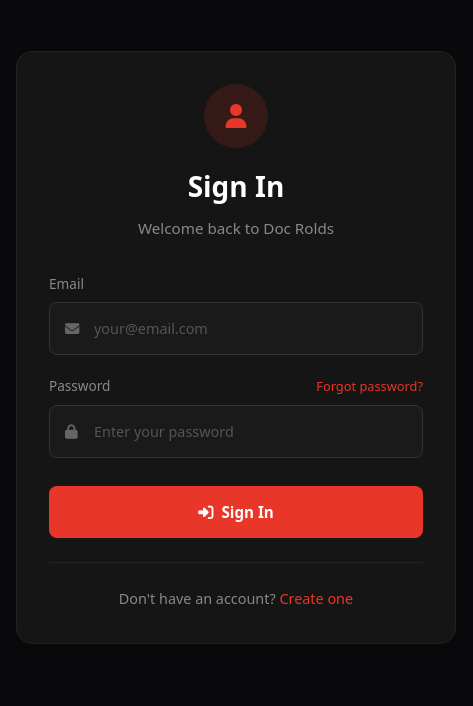
Scenario: CustomerLoginPage › shows an error message when login fails
The width and height of the screenshot is (473, 706).
Type "buyer@example.com" into the field labelled "Email" at point(236, 329), box [49,302,423,355]
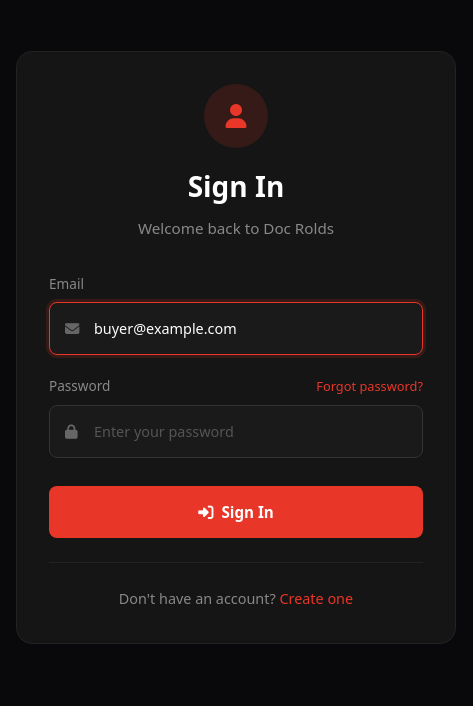
Type "wrong-password" into the password field labelled "Password" at point(236, 432), box [49,405,423,458]
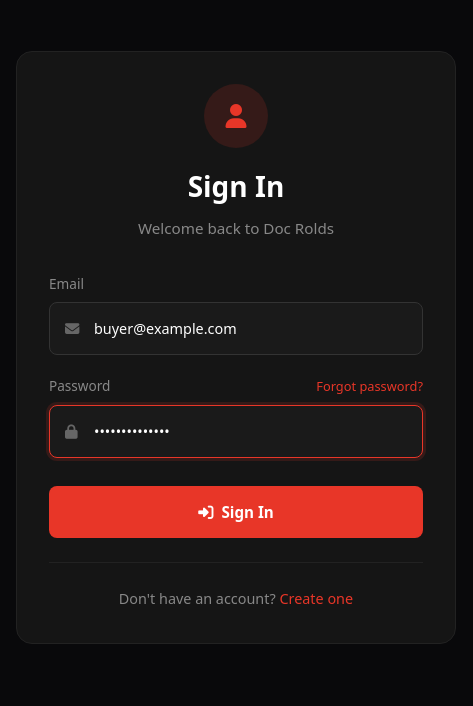
Click the button "Sign In" at point(236, 512), box [49,486,423,538]
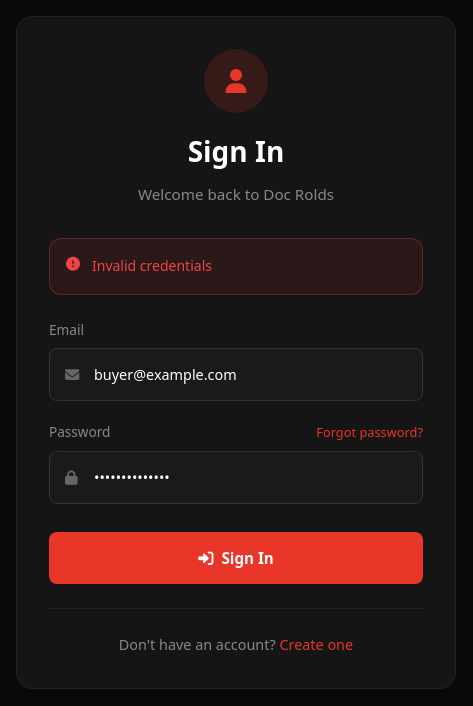
Check: the message reads "Invalid credentials", box [92,256,212,275]
